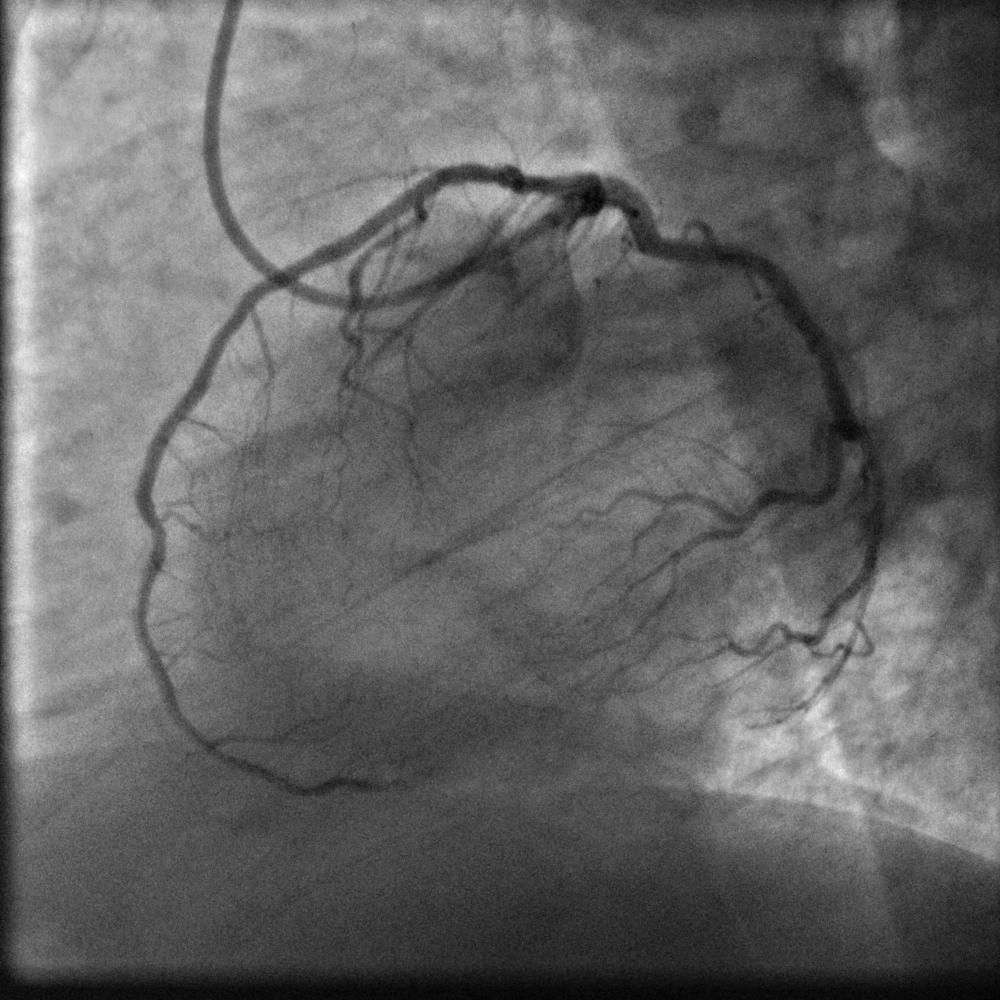Stenosis: (477, 158, 522, 193)
